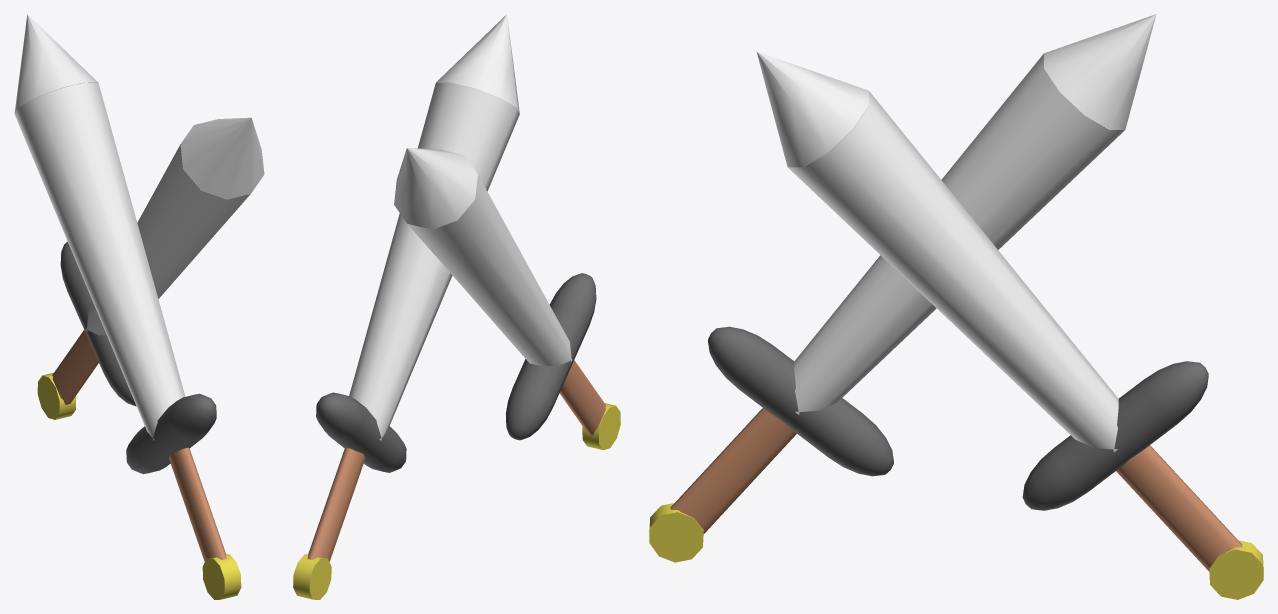
The model's file is fightIcon.glb.
3 renders of one model, left to right at view 1: azimuth 30°, elevation 25°; view 2: azimuth 150°, elevation 25°; view 3: azimuth 270°, elevation 25°, orthographic. The views are drawn at different scales.
Parts seen in each view (by area): view 1: 009_Cone; view 2: 009_Cone; view 3: 009_Cone.
Part boxes in pixels (left/top/right/bottom): 009_Cone: left=14, top=14, right=264, bottom=599; 009_Cone: left=293, top=14, right=620, bottom=599; 009_Cone: left=649, top=14, right=1263, bottom=599.
Size of the model in its own units: 0.3581 by 1.07 by 1.1.
